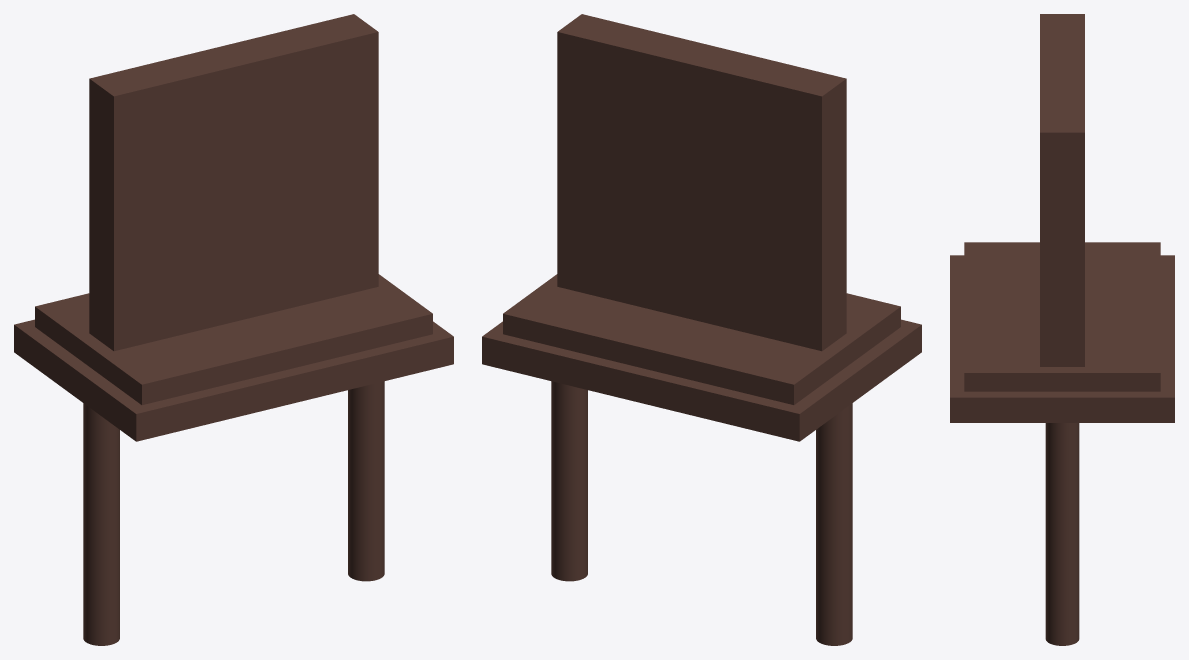
3 renders of one model, left to right at view 1: azimuth 30°, elevation 25°; view 2: azimuth 150°, elevation 25°; view 3: azimuth 270°, elevation 25°, orthographic. The views are drawn at different scales.
Visible parts, largest first — view 1: backrest, seat, base_frame, leg_1, leg_2; view 2: backrest, seat, base_frame, leg_1, leg_2; view 3: seat, backrest, base_frame, leg_2.
Boxes of the visible parts, x1,y1,x2,y2 form: backrest: (89,14,378,351); seat: (35,274,432,404); base_frame: (14,319,453,441); leg_1: (83,403,119,645); leg_2: (348,381,384,581); backrest: (557,14,846,351); seat: (503,274,900,404); base_frame: (482,319,921,441); leg_1: (816,403,852,645); leg_2: (551,381,587,581); seat: (964,242,1160,391); backrest: (1040,14,1084,366); base_frame: (950,255,1174,422); leg_2: (1045,423,1079,645).
Size of the model in its own units: 0.6 by 0.994 by 0.4.
